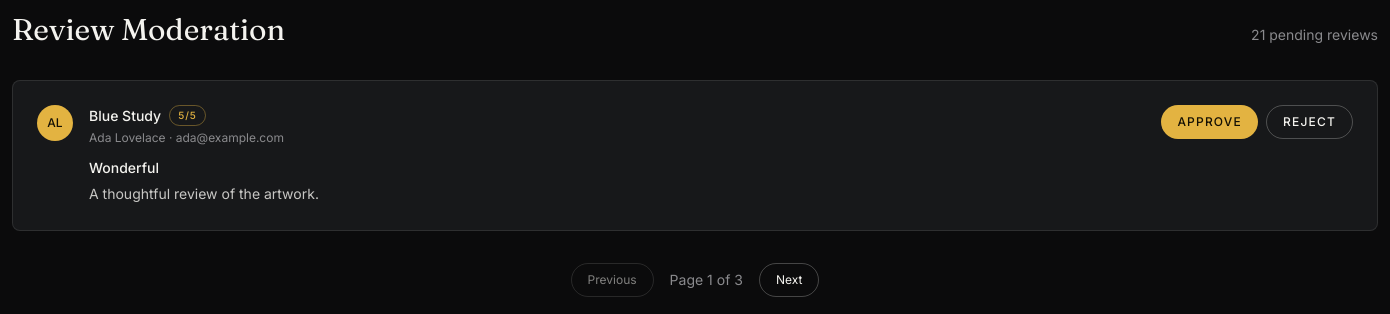
Test: admin review moderation queue › shows the API total and requests the next page using the pagination contract
expect the text "21 pending reviews" is shown: met, box [1251,25,1378,45]
Step 1. Click the button "Next" → {"x": 789, "y": 280}, box [759,263,819,297]
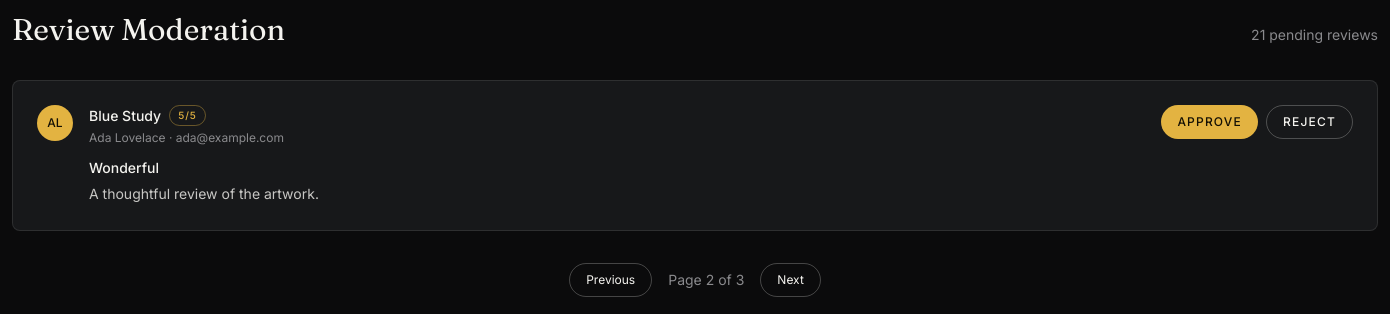
expect the text "Blue Study" is shown: met, box [89,106,161,126]
expect the text "Page 2 of 3" is shown: met, box [668,270,744,290]
